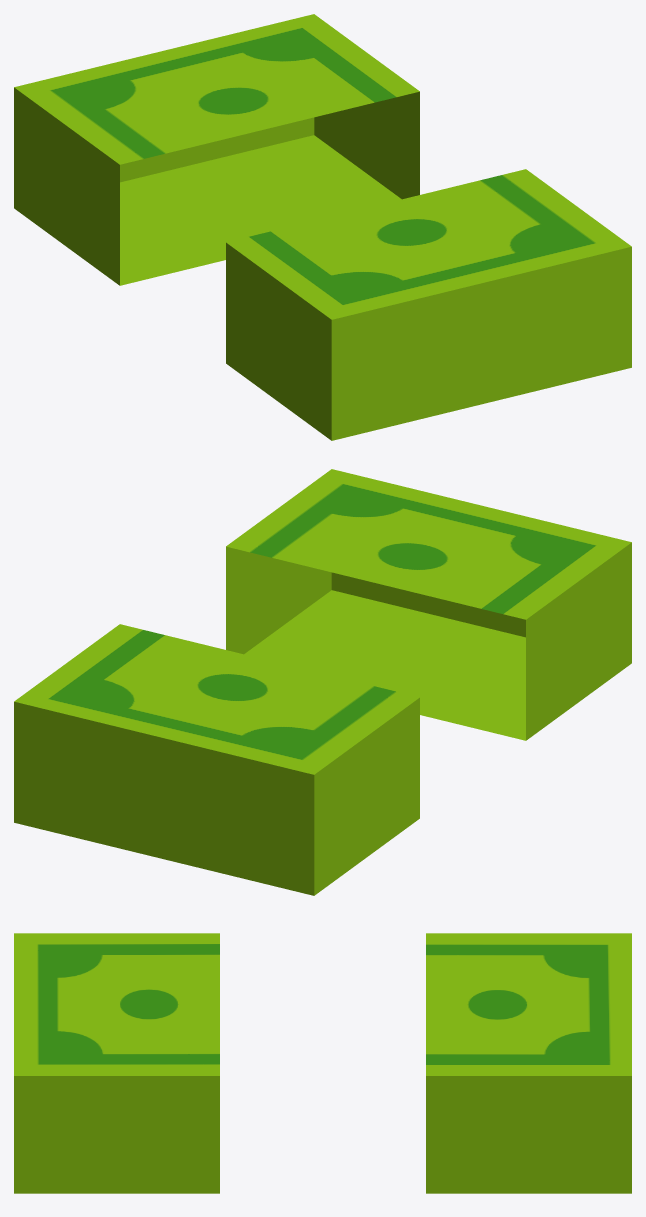
Rendered from dollar.fbx.
3 renders of one model, top to bottom at view 1: azimuth 30°, elevation 25°; view 2: azimuth 150°, elevation 25°; view 3: azimuth 270°, elevation 25°, orthographic. The views are drawn at different scales.
Visible parts, largest first — view 1: dollar.001; view 2: dollar.001; view 3: dollar.001.
Boxes of the visible parts, bbox=[...] form: dollar.001: bbox=[14, 14, 631, 440]; dollar.001: bbox=[14, 469, 631, 895]; dollar.001: bbox=[14, 933, 631, 1193].
Size of the model in its own units: 125 by 50.87 by 220.
1 material, 1 textured.
